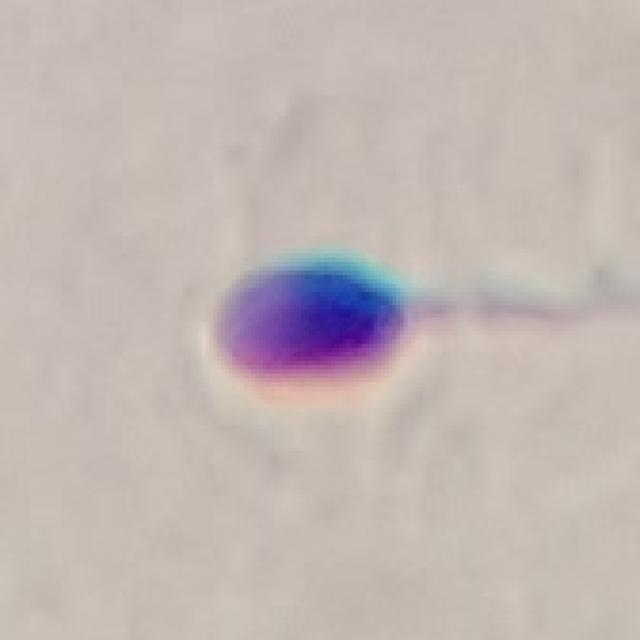normal sperm: (192, 247, 619, 396)
